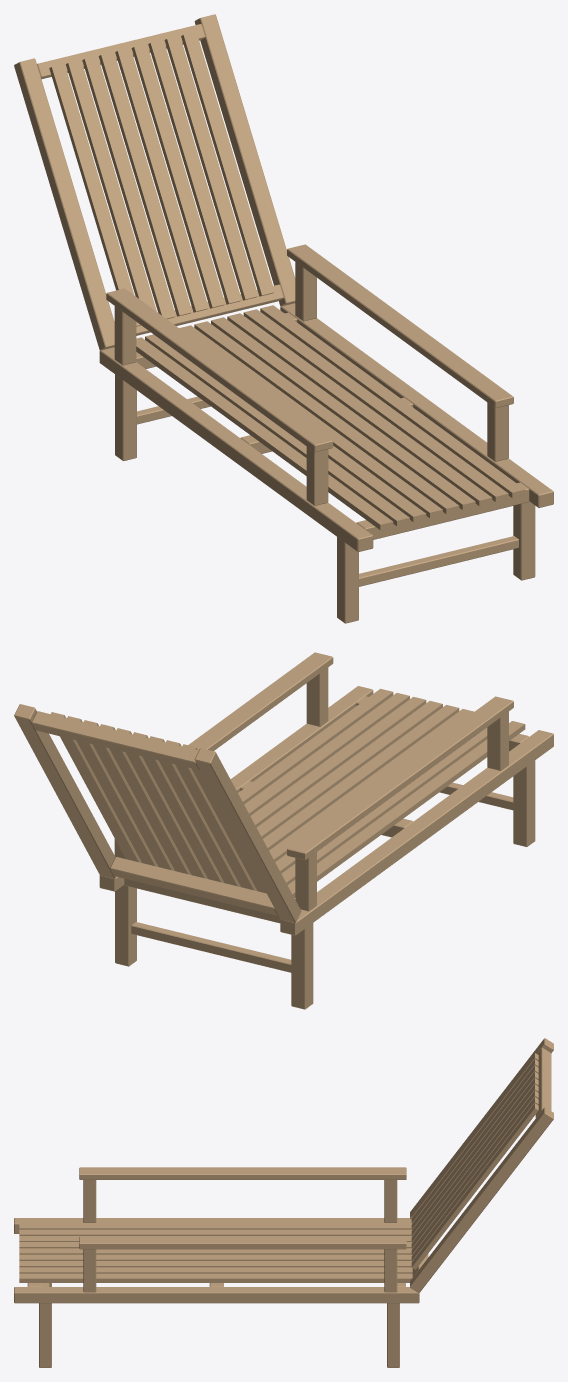
File: teak-lounger.glb
3 renders of one model, top to bottom at view 1: azimuth 30°, elevation 25°; view 2: azimuth 150°, elevation 25°; view 3: azimuth 270°, elevation 25°, orthographic. The views are drawn at different scales.
Visible parts, largest first — view 1: TeakLounger; view 2: TeakLounger; view 3: TeakLounger.
Boxes of the visible parts, bbox=[...] form: TeakLounger: bbox=[14, 14, 553, 623]; TeakLounger: bbox=[14, 652, 553, 1009]; TeakLounger: bbox=[14, 1038, 553, 1367].
Size of the model in its own units: 0.691 by 1.08 by 2.06.
